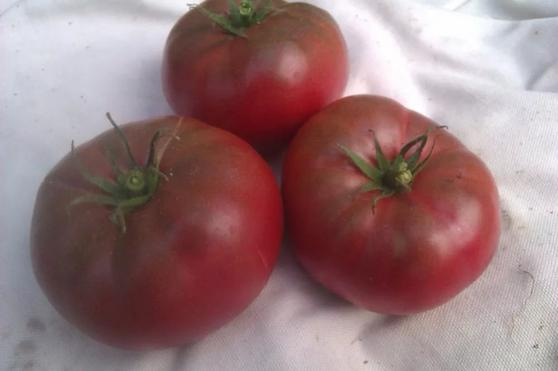tomato: (32, 118, 284, 343), (286, 94, 500, 317)
